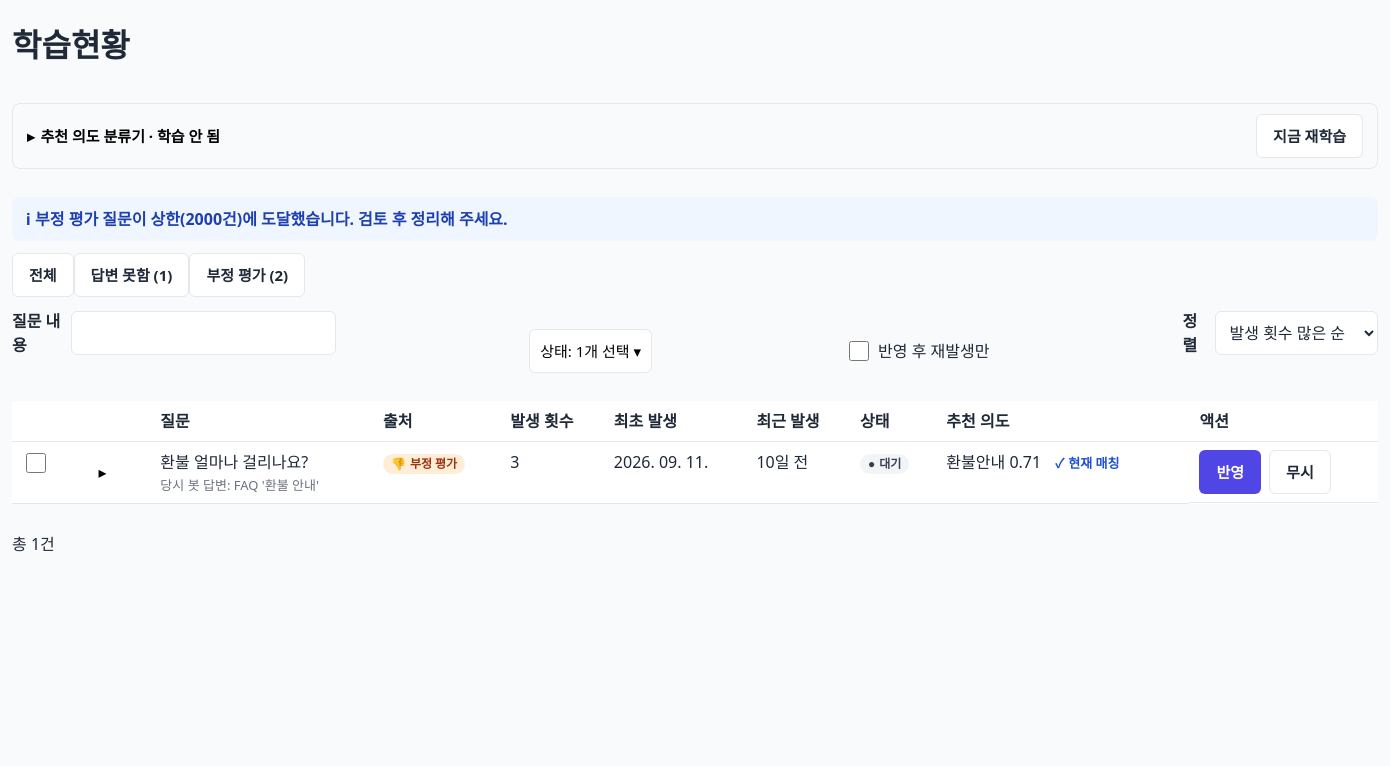
Test: LearningQueuePage — 부정 평가 소스 확장(No.44) › 부정 평가 펼침 상세(당시 답변·배지·직접 수정 완료 포함)에 구조적 접근성 위반이 없다
Expected: the text "환불 얼마나 걸리나요?" is shown, [160,451,308,473]
Step 1. Click the button named "상세 펼치기" → (103, 472), box [81,450,125,494]
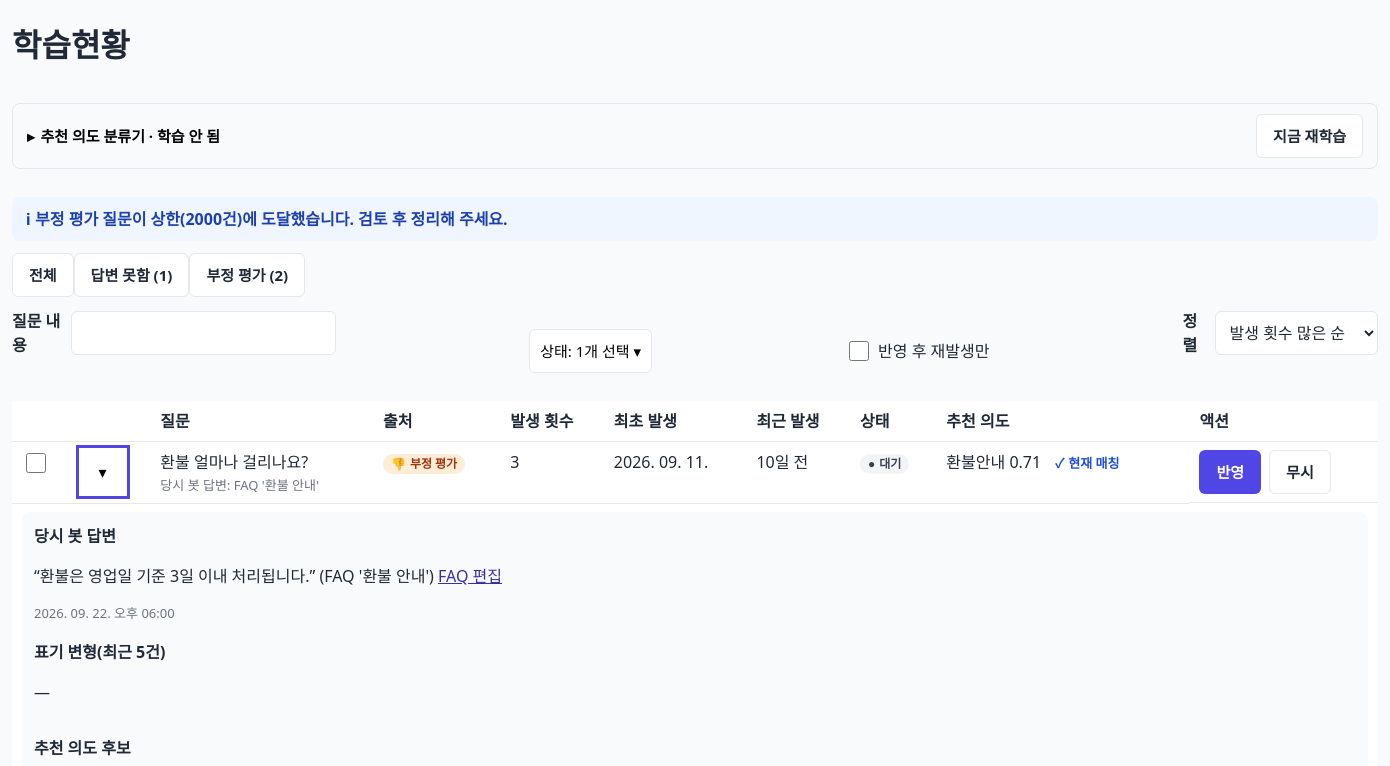
Now the text "“환불은 영업일 기준 3일 이내 처리됩니다.” (FAQ '환불 안내') FAQ 편집" is shown, box [34,565,502,587]
